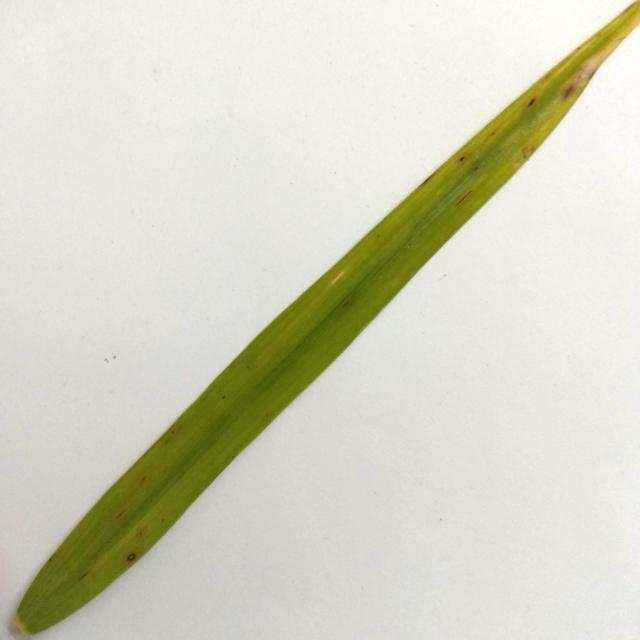Brown spot: (514, 142, 534, 166), (452, 188, 474, 206), (519, 97, 542, 114), (132, 463, 150, 483), (558, 80, 574, 102), (454, 152, 470, 170), (123, 547, 140, 563), (210, 390, 230, 401), (586, 68, 596, 80)
